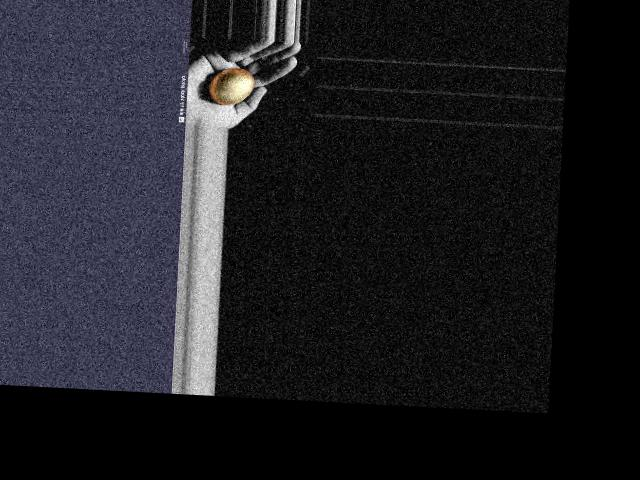egg: (209, 66, 255, 105)
